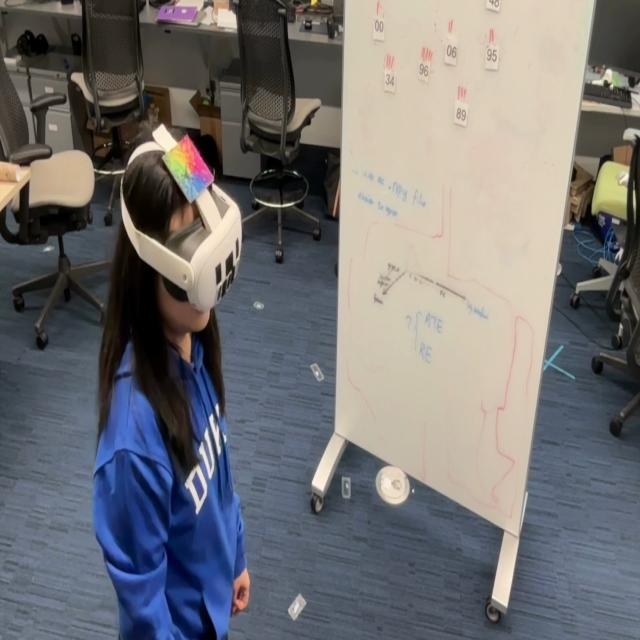Headset: (120, 138, 242, 314)
Marker: (161, 131, 215, 205)
